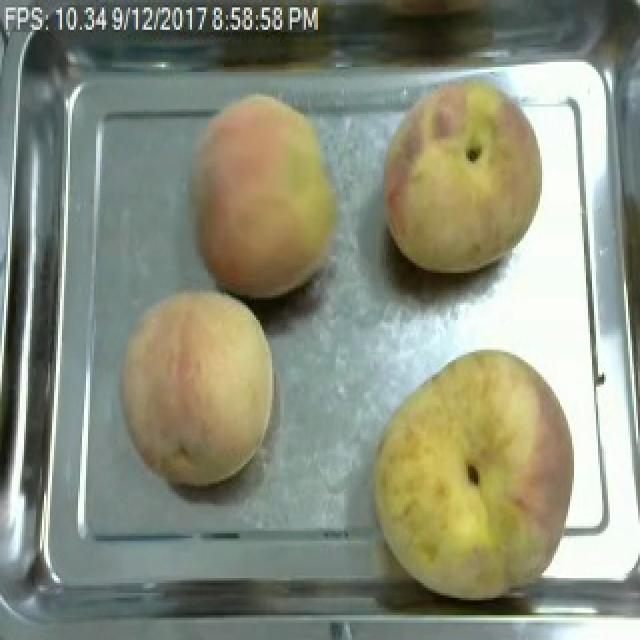Fruit: (358, 338, 588, 610), (374, 67, 554, 280), (180, 84, 350, 305), (112, 277, 284, 493)
